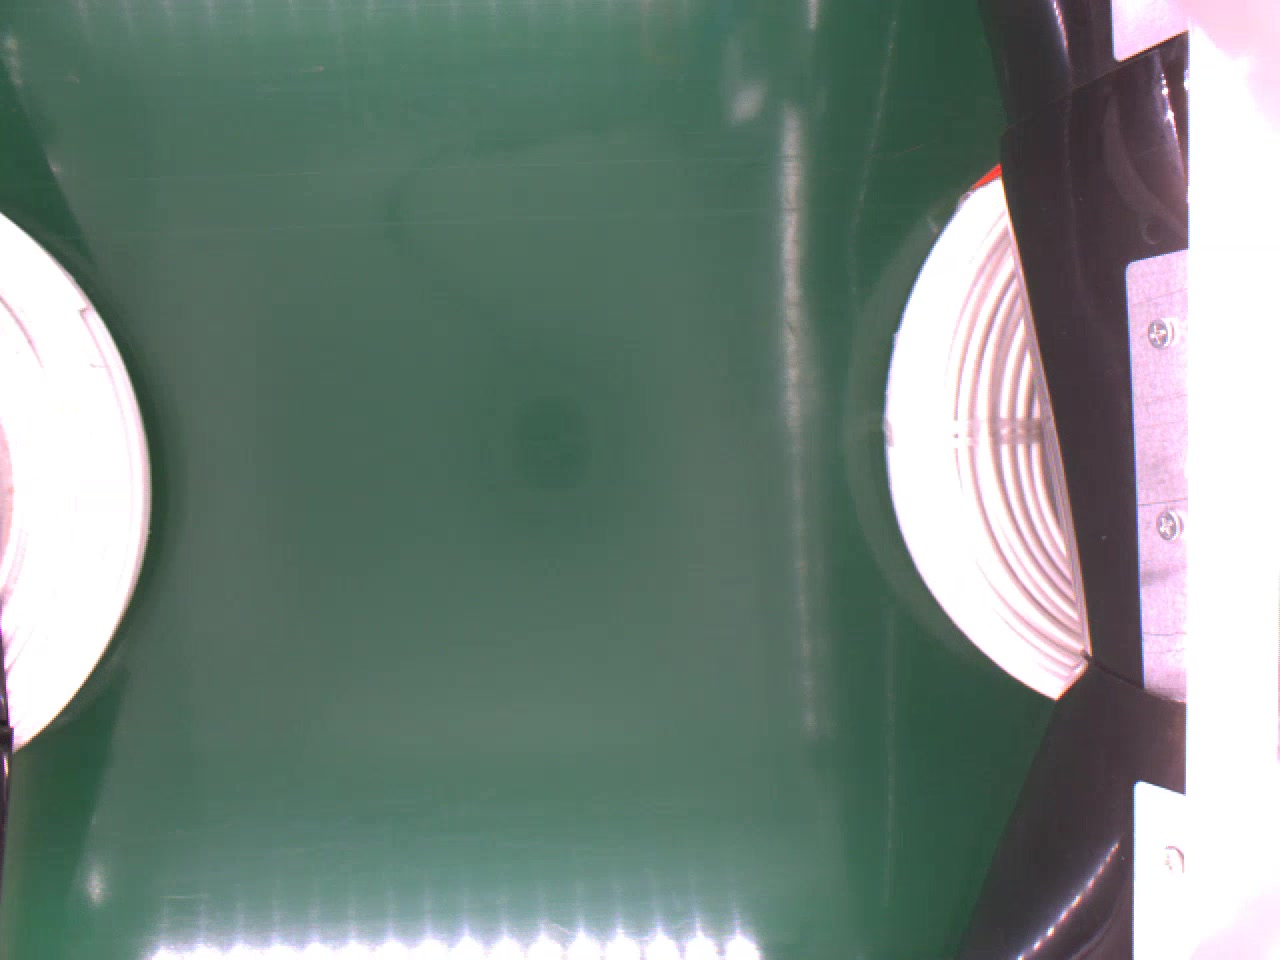white: (882, 158, 1085, 703), (0, 203, 155, 746)
